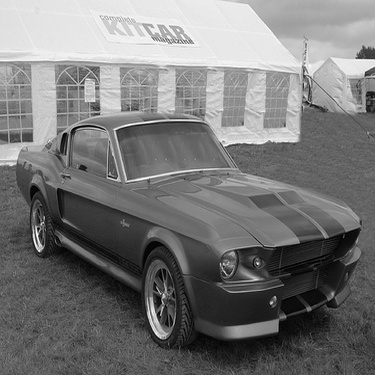car: (1, 109, 367, 358)
